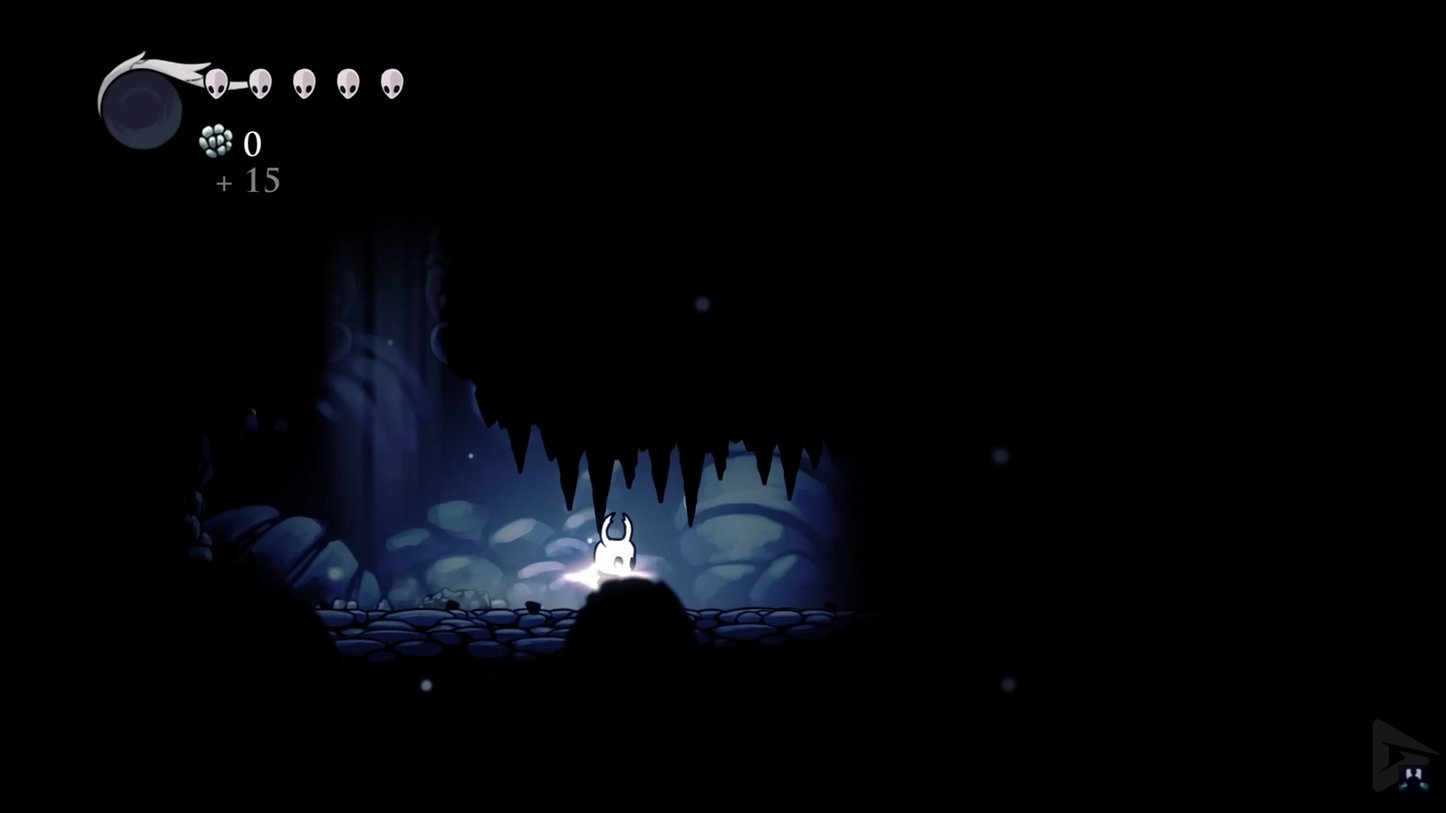HK: (591, 506, 636, 620)
